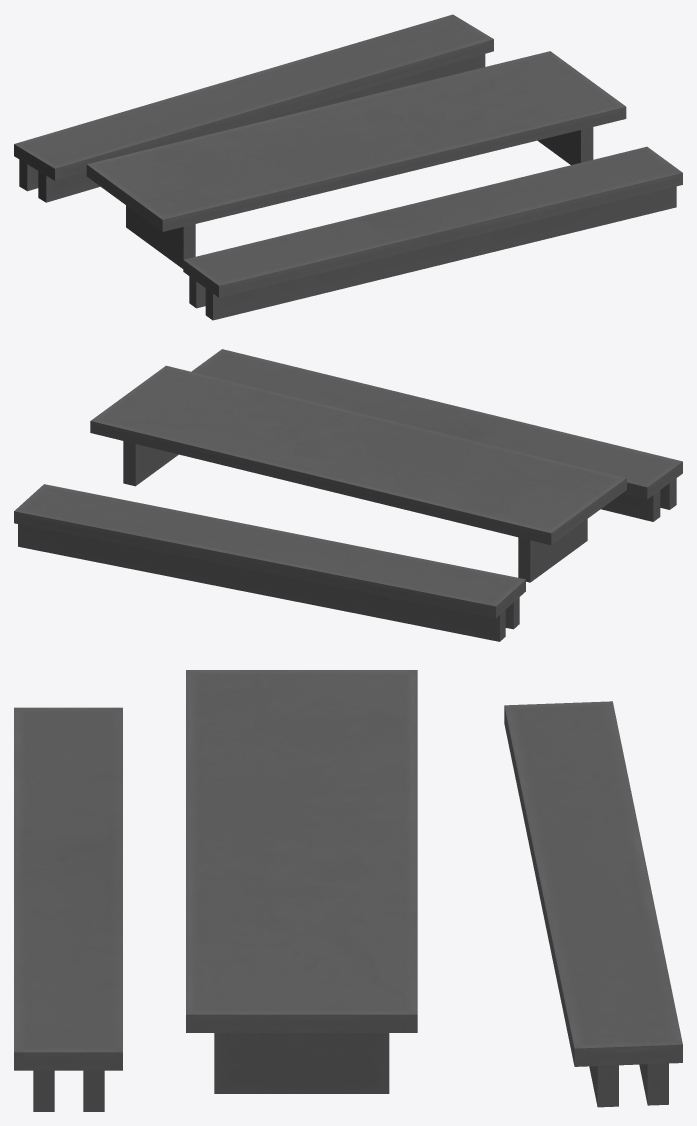
File: Pfb_Canteen.fbx
3 views of the same model, one above another, from view 1: azimuth 30°, elevation 25°; view 2: azimuth 150°, elevation 25°; view 3: azimuth 270°, elevation 25° (orthographic). The views are drawn at different scales.
Visible parts, largest first — view 1: Mat_Canteen_02; view 2: Mat_Canteen_02; view 3: Mat_Canteen_02.
Part boxes in pixels (bbox=[...]): Mat_Canteen_02: bbox=[14, 14, 682, 320]; Mat_Canteen_02: bbox=[14, 349, 682, 641]; Mat_Canteen_02: bbox=[14, 670, 682, 1111].
Size of the model in its own units: 3.56 by 0.4592 by 2.87.
Materials: 1 (1 with a texture image).
